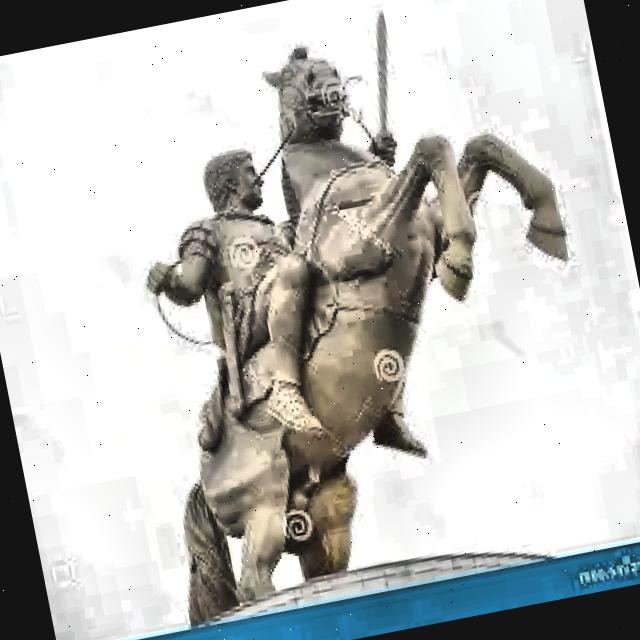alexander the great monument: (75, 0, 636, 628)
